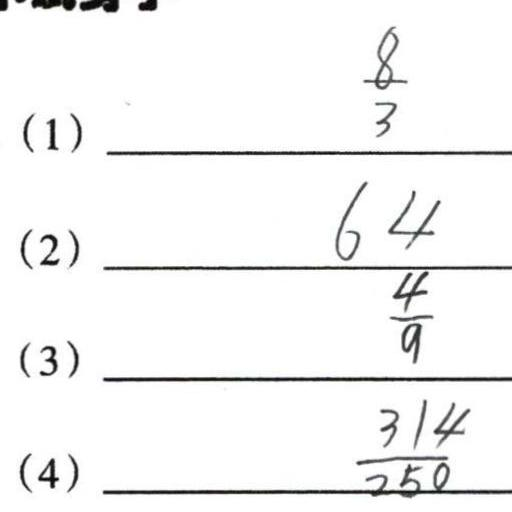ans: (353, 395, 471, 494), (332, 178, 443, 264), (363, 23, 409, 140), (382, 265, 435, 364)
